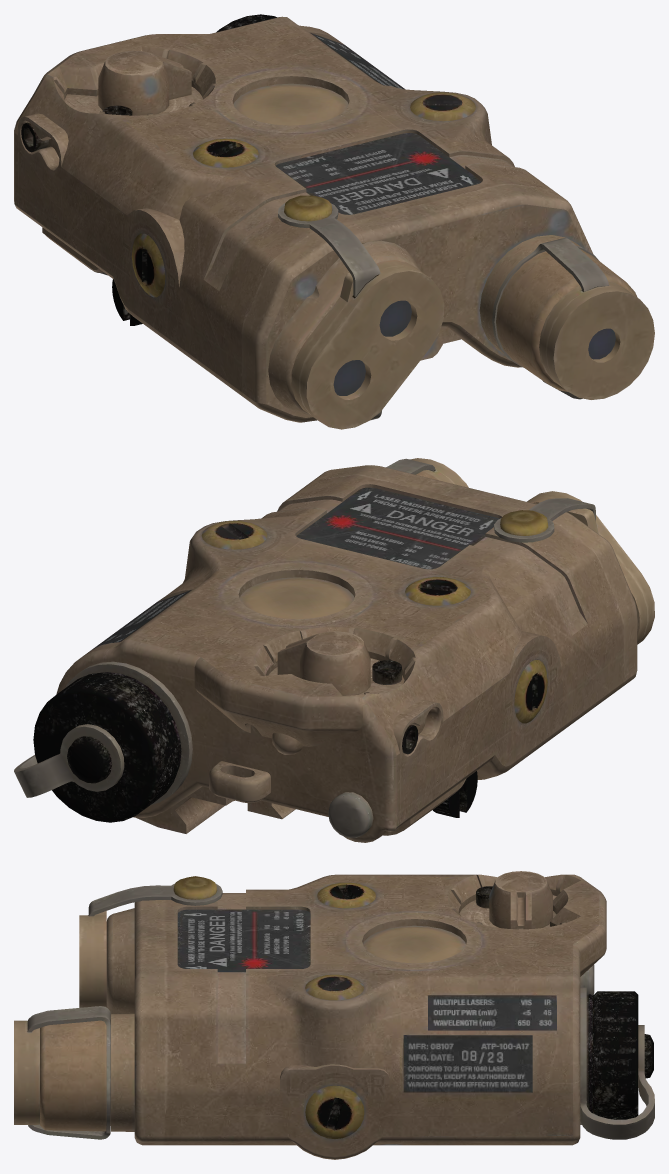
The model's file is peq15.glb.
The picture shows the model from 3 angles, top to bottom: view 1: azimuth 30°, elevation 25°; view 2: azimuth 150°, elevation 25°; view 3: azimuth 270°, elevation 25°; orthographic projection. The views are drawn at different scales.
Visible parts, largest first — view 1: SM_PEG15_01a; view 2: SM_PEG15_01a; view 3: SM_PEG15_01a.
Part boxes in pixels (x1,y1,x2,y2): SM_PEG15_01a: (14,14,654,429); SM_PEG15_01a: (14,458,654,842); SM_PEG15_01a: (14,871,654,1159).
Size of the model in its own units: 0.07 by 0.0404 by 0.1221.
Materials: 1 (1 with a texture image).
